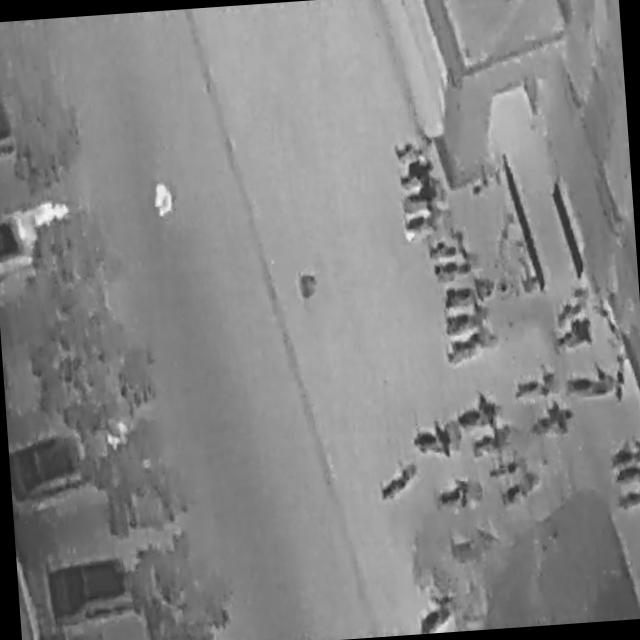person: (150, 180, 176, 218)
